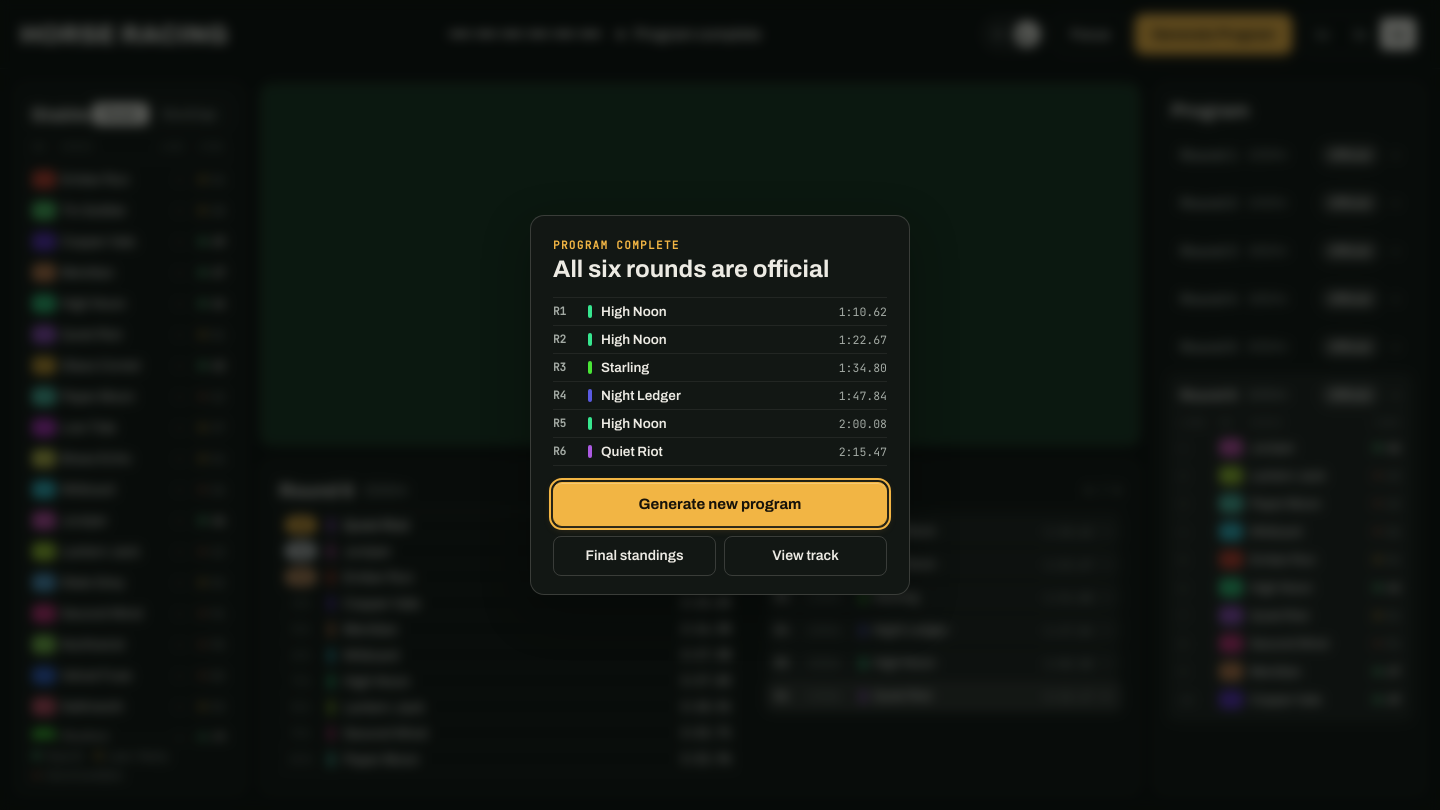
Scenario: App › standings › the completion summary links to the final standings
Click the button "Final standings". click: (634, 556)
box: [553, 536, 716, 576]
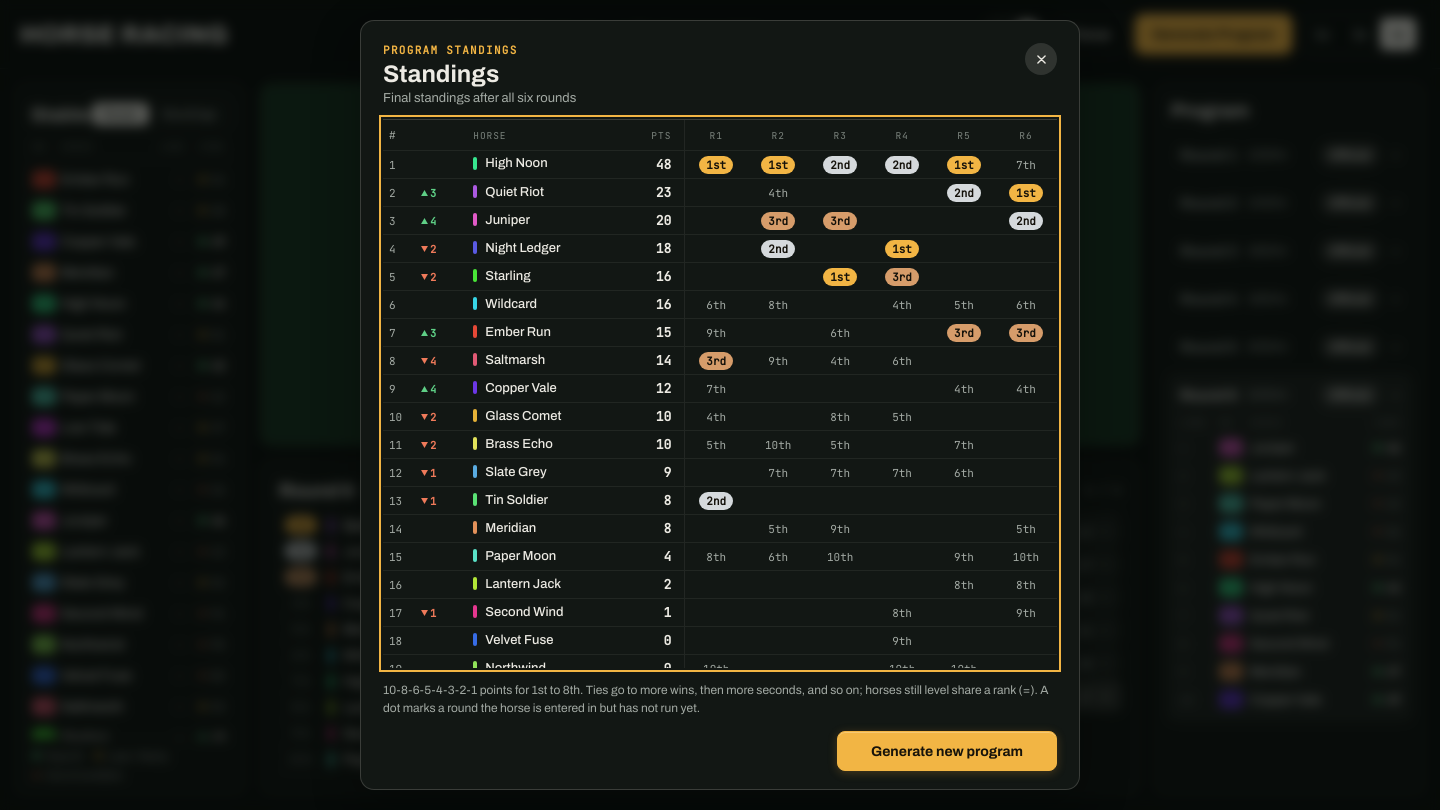
Check: the dialog shows "Final standings after all six rounds", box [383, 91, 576, 105]
